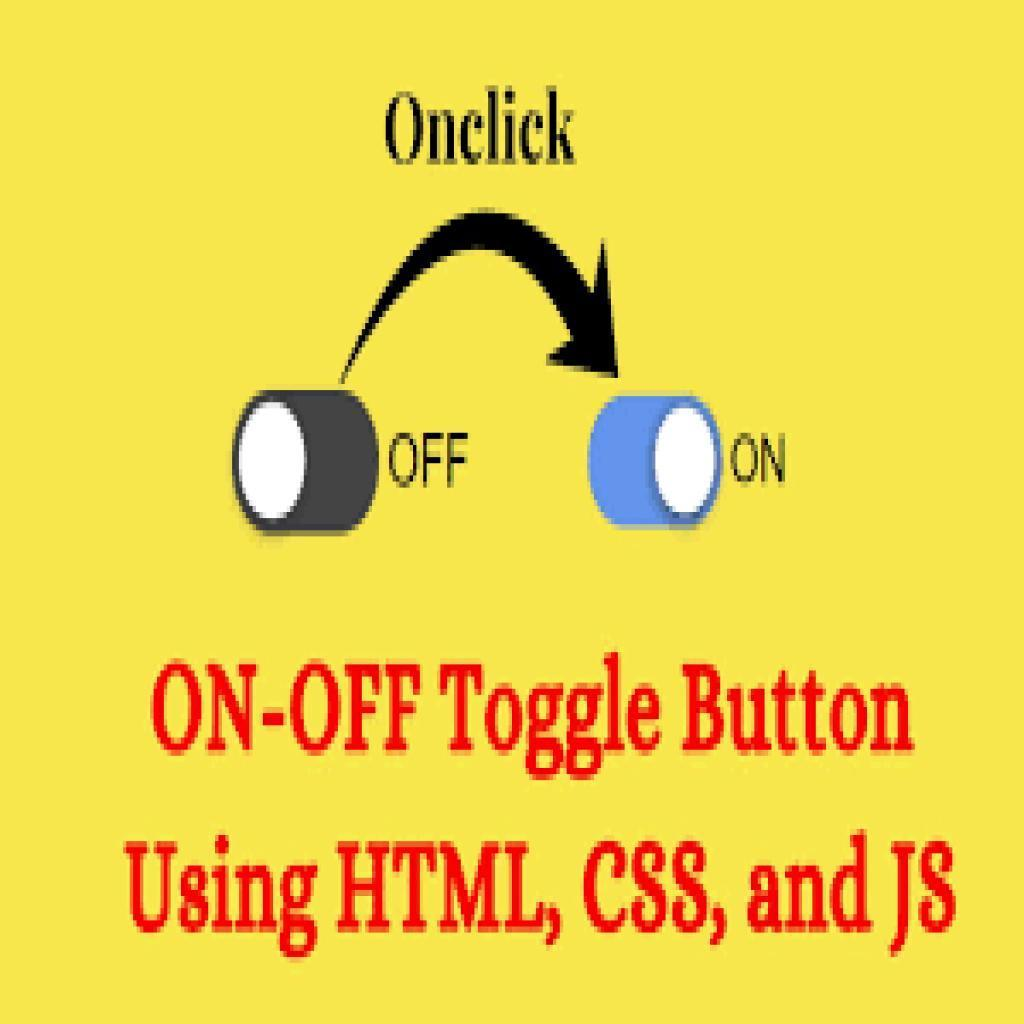switch: (235, 390, 378, 539), (585, 394, 722, 531)
